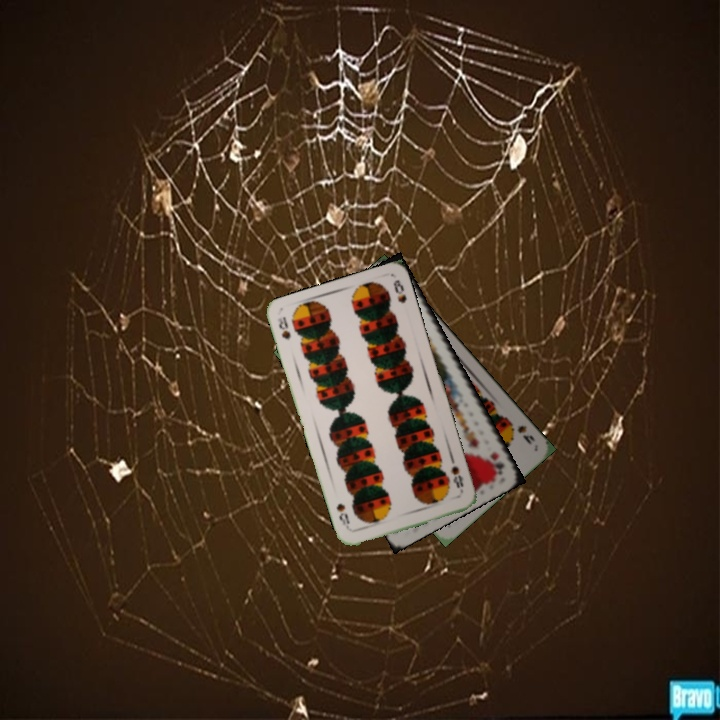HK: (486, 448, 507, 477)
S8: (447, 462, 466, 495), (273, 313, 293, 343)
S9: (505, 416, 538, 447)
